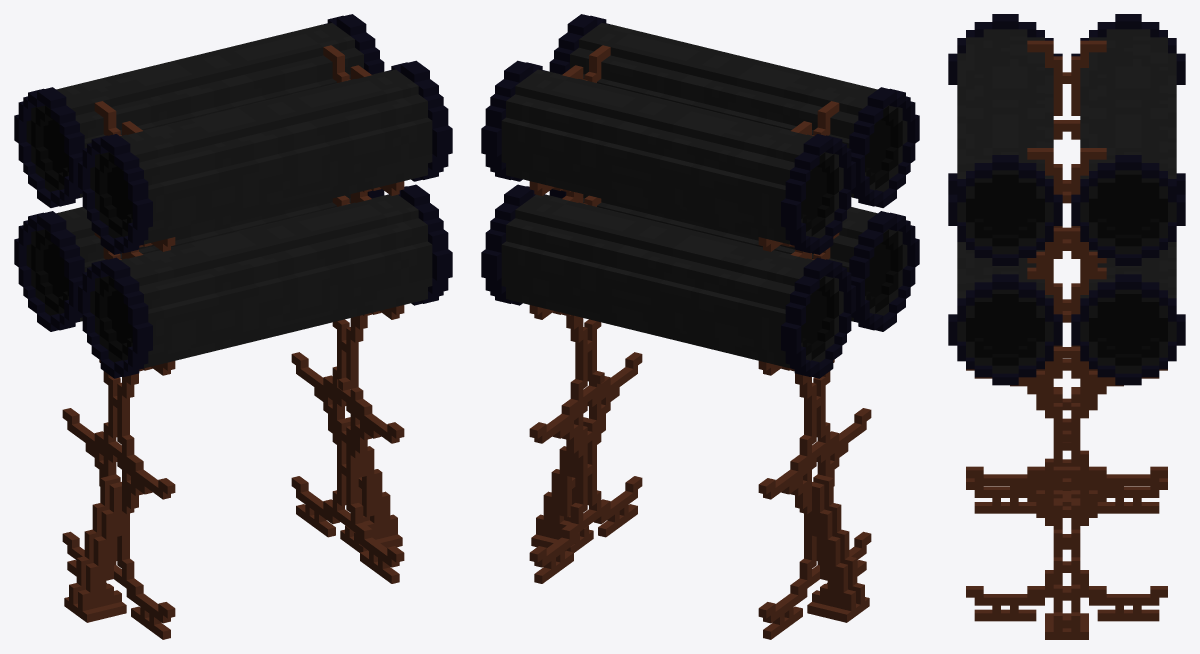
The model's file is pipe_2.obj.
3 renders of one model, left to right at view 1: azimuth 30°, elevation 25°; view 2: azimuth 150°, elevation 25°; view 3: azimuth 270°, elevation 25°, orthographic. The views are drawn at different scales.
Size of the model in its own units: 4 by 6 by 2.7.
1 material, 1 textured.
